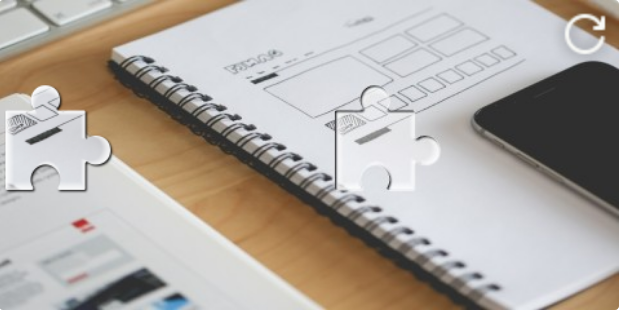target: (336, 85, 440, 191)
